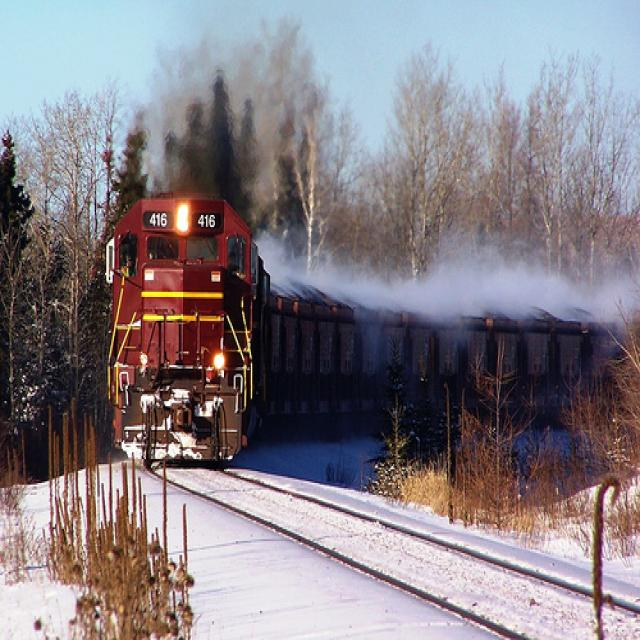locomotive: (95, 187, 276, 473)
